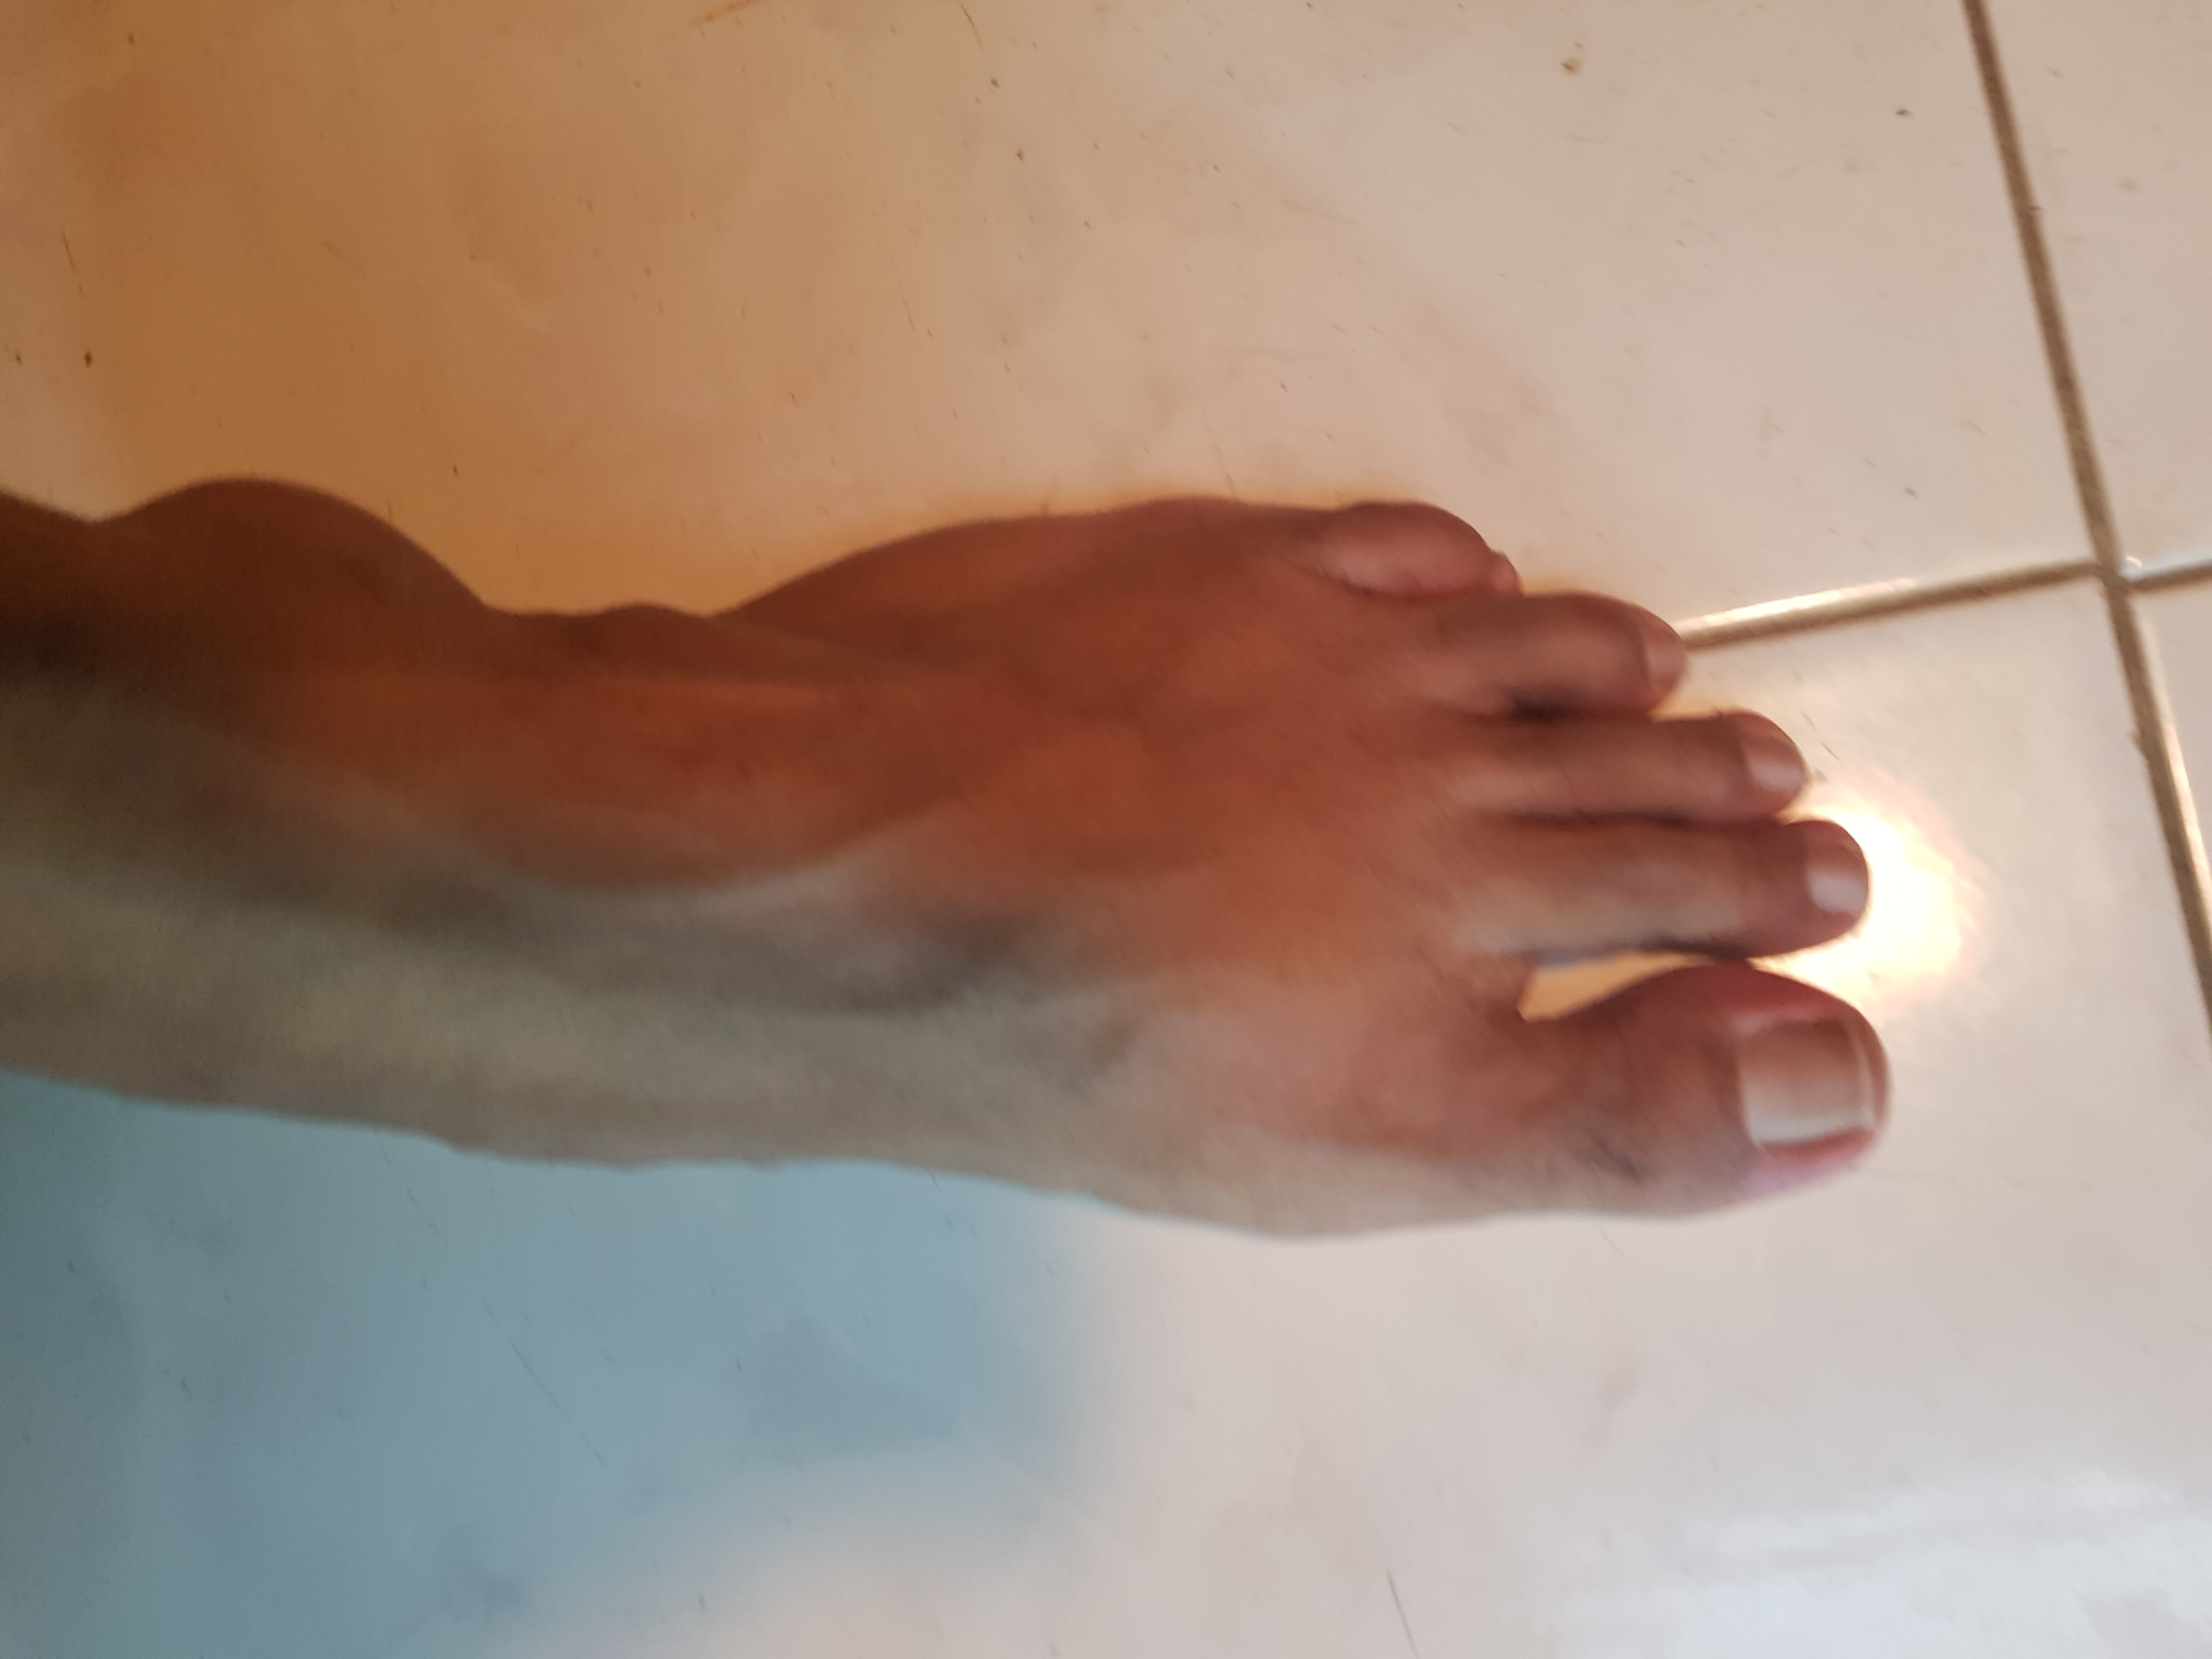feet: (19, 441, 1940, 1281)
